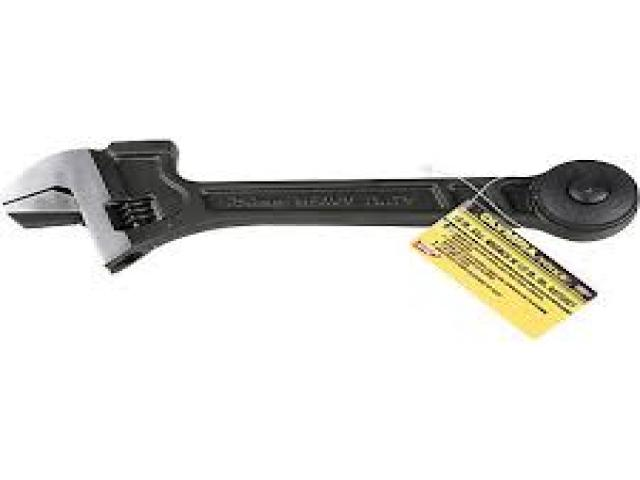Adjustable spanner: (2, 141, 638, 271)
